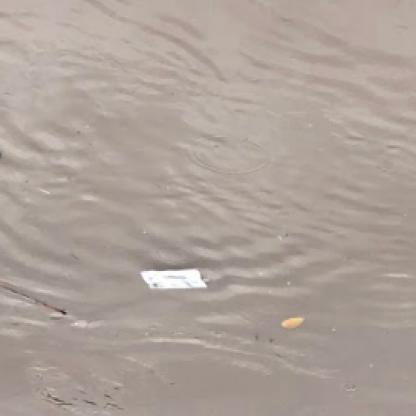Trash: (138, 262, 212, 296)
